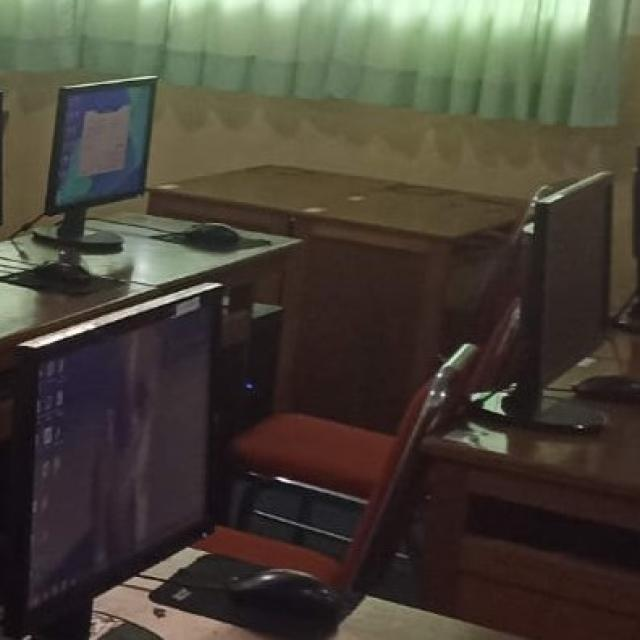onscreen: (12, 284, 219, 633), (46, 76, 156, 213)
